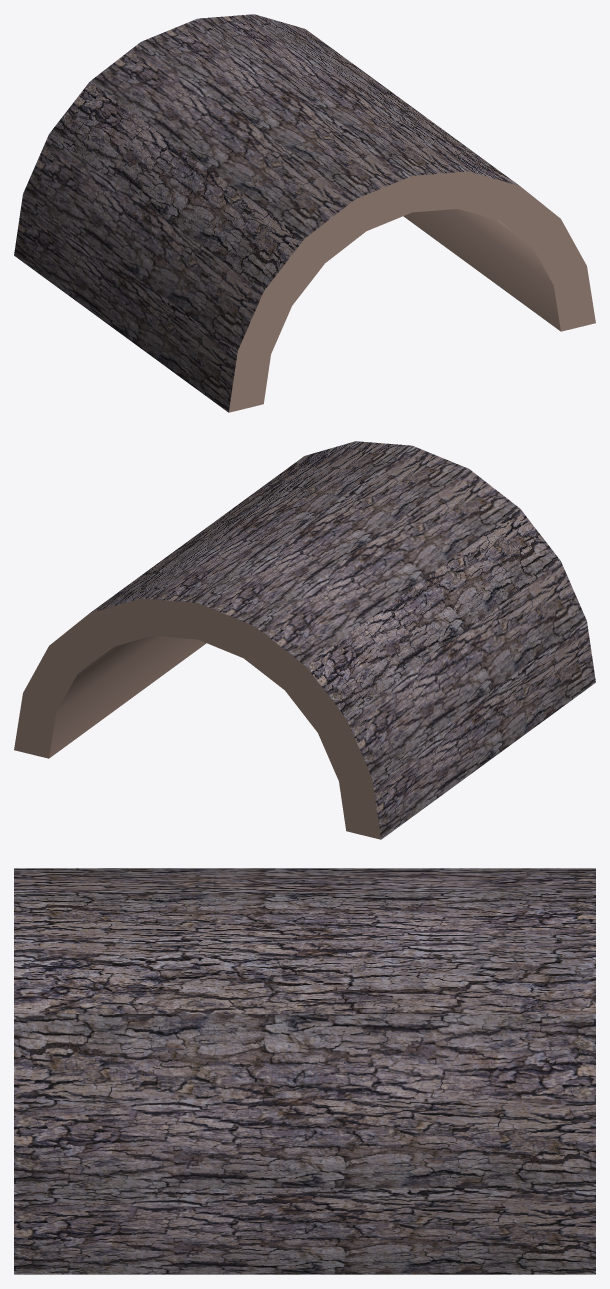
Rendered from tortoise hut.fbx.
The picture shows the model from 3 angles, top to bottom: view 1: azimuth 30°, elevation 25°; view 2: azimuth 150°, elevation 25°; view 3: azimuth 270°, elevation 25°; orthographic projection. The views are drawn at different scales.
Visible parts, largest first — view 1: pPipe10; view 2: pPipe10; view 3: pPipe10.
Boxes of the visible parts, x1=… form: pPipe10: x1=14, y1=14, x2=595, y2=412; pPipe10: x1=14, y1=441, x2=595, y2=839; pPipe10: x1=14, y1=868, x2=595, y2=1274.
Bounding box in the file's own units: 2 × 1 × 2.03.
